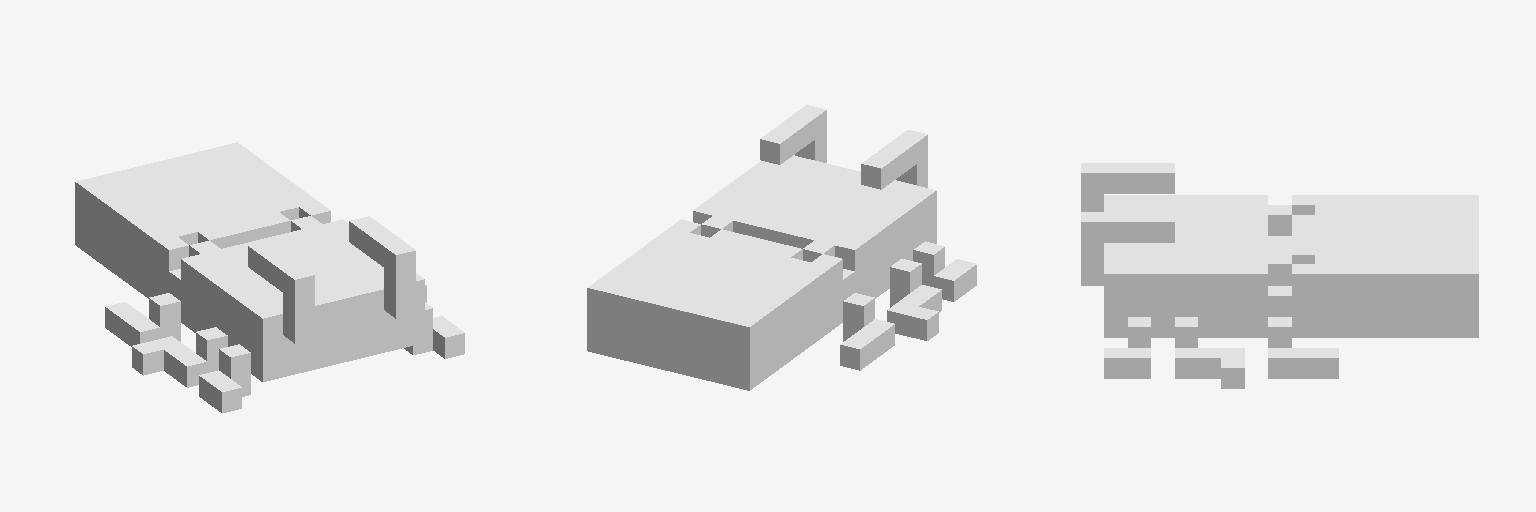
Rendered from bug.vox.obj.
The picture shows the model from 3 angles: view 1: azimuth 30°, elevation 25°; view 2: azimuth 150°, elevation 25°; view 3: azimuth 270°, elevation 25°; orthographic projection.
Parts seen in each view (by area): view 1: object 1; view 2: object 1; view 3: object 1.
Part boxes in pixels (bbox=[...]): object 1: bbox=[75, 142, 464, 412]; object 1: bbox=[587, 105, 976, 390]; object 1: bbox=[1081, 163, 1478, 388].
Bounding box in the file's own units: 1.4 × 0.6 × 1.7.